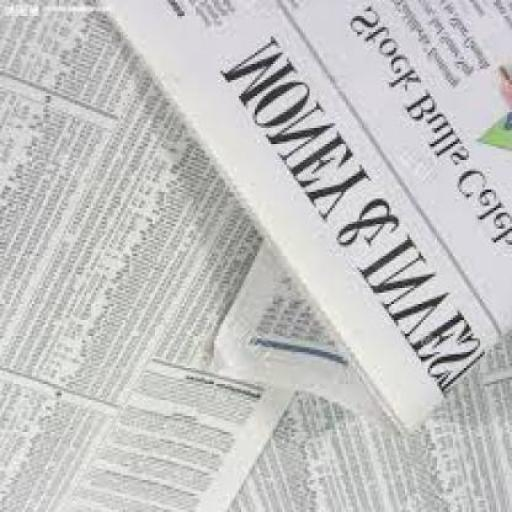paper: (96, 2, 510, 440), (0, 4, 298, 510), (220, 339, 510, 512)
